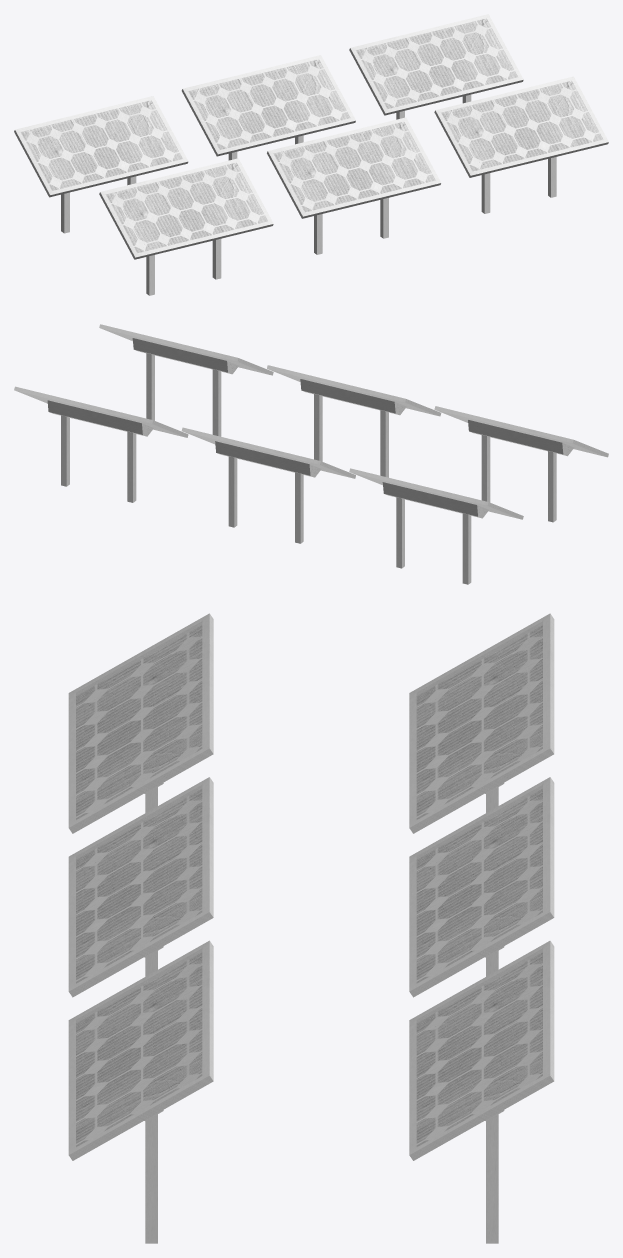
File: solar_array.fbx
The picture shows the model from 3 angles, top to bottom: view 1: azimuth 30°, elevation 25°; view 2: azimuth 150°, elevation 25°; view 3: azimuth 270°, elevation 25°; orthographic projection. The views are drawn at different scales.
Visible parts, largest first — view 1: solar_base, solar_face2, solar_face3, solar_face4, solar_face1, solar_face6, solar_face5; view 2: solar_base; view 3: solar_base, solar_face3, solar_face2, solar_face5, solar_face6, solar_face1, solar_face4.
Boxes of the visible parts, x1,y1,x2,y2 form: solar_base: [14, 14, 608, 295]; solar_face2: [20, 100, 182, 190]; solar_face3: [188, 59, 350, 149]; solar_face4: [273, 121, 435, 212]; solar_face1: [106, 162, 267, 253]; solar_face6: [441, 80, 603, 171]; solar_face5: [356, 18, 517, 108]; solar_base: [14, 324, 608, 584]; solar_base: [68, 613, 554, 1243]; solar_face3: [416, 788, 542, 983]; solar_face2: [416, 625, 542, 819]; solar_face5: [416, 952, 542, 1146]; solar_face6: [76, 952, 202, 1147]; solar_face1: [76, 625, 202, 819]; solar_face4: [76, 789, 202, 983].
Size of the model in its own units: 14.92 by 3.02 by 6.63.
Materials: 2 (2 with a texture image).
